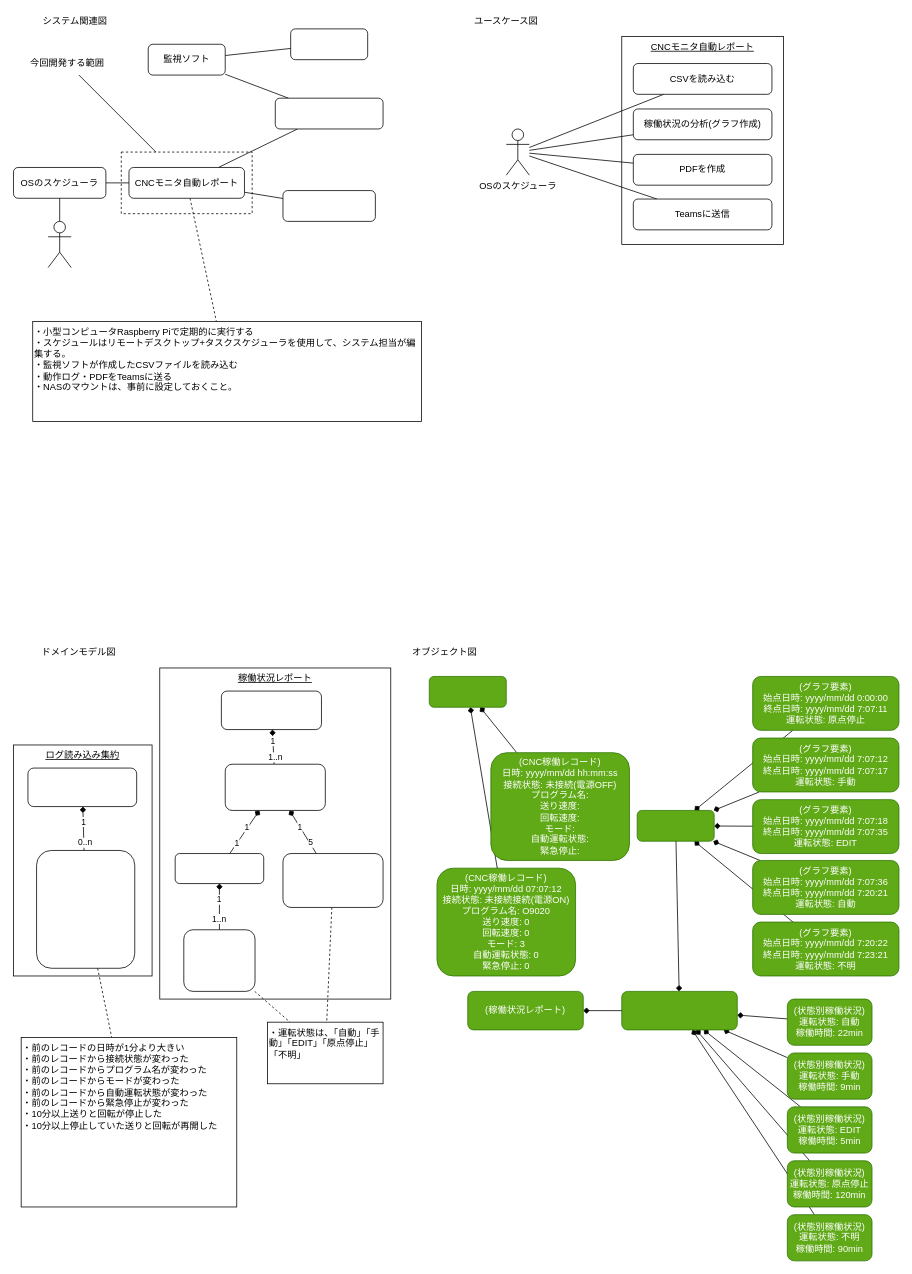
Image size: 912x1274. Some labels were removed from this diagram. The shapes that lost their labels are listed below. From the top down, each one's centre as x and y in pixels, then its label:
At point (329, 44): "CNCマシン".
At point (329, 113): "NAS共有フォルダ".
At point (328, 205): "teams webhook".
At point (59, 244): "システム担当".
At point (271, 710): "稼働状況レポート( CNCWorkingReport )".
At point (467, 691): "(CNC稼働ログ) 設備名: RB-260M".
At point (82, 787): "CNC稼働ログ (CNCMonitorByMachine ) 設備名".
At point (274, 786): "設備別稼働状況( WorkedByMachine) 設備名".
At point (675, 825): "(グラフ)".
At point (219, 868): "グラフ (Chart )".
At point (332, 880): "状態別稼働状況( WorkedByState) 運転状態 稼働時間".
At point (85, 909): "CNC稼働レコード (CNCMonitorRecord ) 日時 接続状態 プログラム名 送り速度 回転速度 モード 自動運転状態 緊急停止".
At point (219, 960): "グラフ要素 (ChartElement ) 始点日時 終点日時 運転状態".
At point (679, 1010): "(設備別稼働状況) 設備名: RB-260M".
